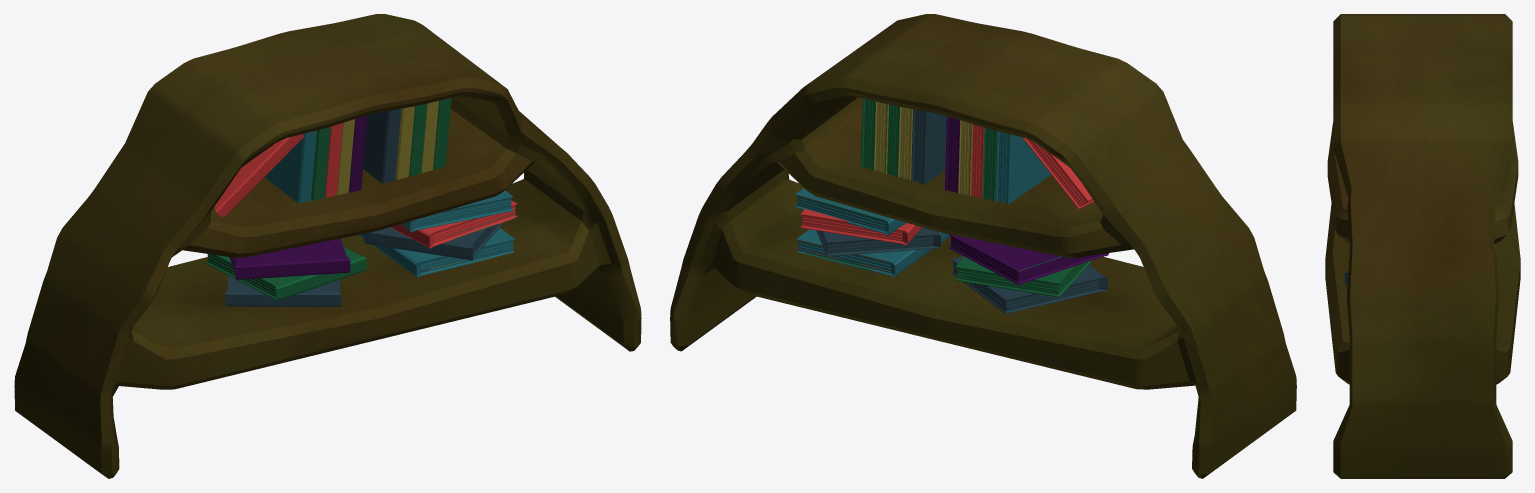
The model's file is library bookshelf.fbx.
3 views of the same model, side by side, from view 1: azimuth 30°, elevation 25°; view 2: azimuth 150°, elevation 25°; view 3: azimuth 270°, elevation 25° (orthographic). The views are drawn at different scales.
Parts seen in each view (by area): view 1: polySurface454; view 2: polySurface454; view 3: polySurface454.
Boxes of the visible parts, <box> form: polySurface454: <box>14,14,641,478</box>; polySurface454: <box>670,14,1296,478</box>; polySurface454: <box>1325,14,1520,478</box>.
Size of the model in its own units: 1.83 by 1.03 by 0.604.
Materials: 1 (1 with a texture image).
